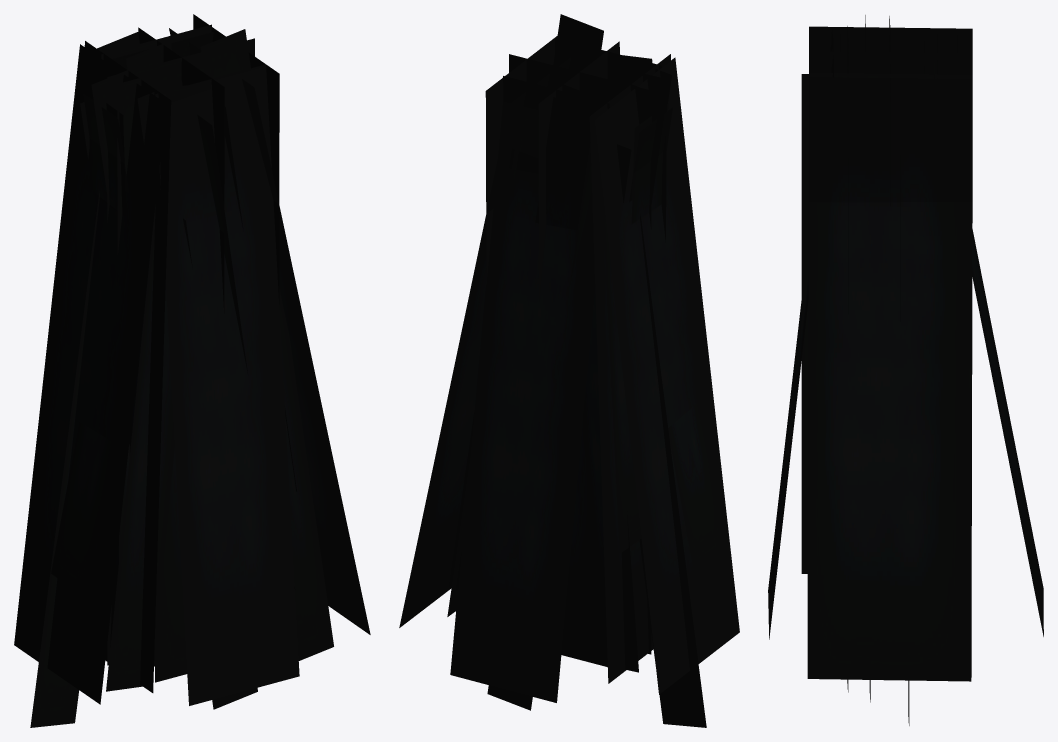
File: cistern_entrance_rays.dae
3 renders of one model, left to right at view 1: azimuth 30°, elevation 25°; view 2: azimuth 150°, elevation 25°; view 3: azimuth 270°, elevation 25°, orthographic. The views are drawn at different scales.
Parts seen in each view (by area): view 1: polySurface39, polySurface36, polySurface25, polySurface37, polySurface15, polySurface35, polySurface29, polySurface23, polySurface31, polySurface33, polySurface24, polySurface34 (+8 smaller); view 2: polySurface38, polySurface36, polySurface37, polySurface35, polySurface30, polySurface26, polySurface29, polySurface19, polySurface23, polySurface28, polySurface34, polySurface33 (+11 smaller); view 3: polySurface37, polySurface34, polySurface35, polySurface38, polySurface7, polySurface33, polySurface39.
Part boxes in pixels (box(x1,y1,x2,y2)): polySurface39: box(156, 66, 299, 705); polySurface36: box(14, 44, 166, 704); polySurface25: box(106, 82, 211, 691); polySurface37: box(169, 28, 370, 634); polySurface15: box(200, 29, 333, 660); polySurface35: box(84, 41, 171, 692); polySurface29: box(51, 241, 151, 598); polySurface23: box(30, 191, 99, 727); polySurface31: box(155, 64, 265, 682); polySurface33: box(138, 27, 224, 313); polySurface24: box(117, 72, 162, 666); polySurface34: box(193, 14, 279, 304); polySurface38: box(450, 101, 609, 702); polySurface36: box(594, 57, 739, 694); polySurface37: box(399, 56, 571, 627); polySurface35: box(589, 54, 670, 683); polySurface30: box(503, 76, 609, 666); polySurface26: box(558, 92, 638, 672); polySurface29: box(668, 400, 727, 573); polySurface19: box(535, 97, 593, 230); polySurface23: box(639, 213, 706, 727); polySurface28: box(601, 186, 641, 553); polySurface34: box(485, 36, 557, 286); polySurface33: box(538, 41, 619, 301); polySurface37: box(807, 72, 972, 681); polySurface34: box(807, 77, 972, 614); polySurface35: box(809, 26, 972, 53); polySurface38: box(933, 34, 1043, 636); polySurface7: box(801, 74, 808, 573); polySurface33: box(807, 51, 972, 580); polySurface39: box(768, 31, 833, 639).
Bounding box in the file's own units: 19.41 × 45.32 × 16.78.
